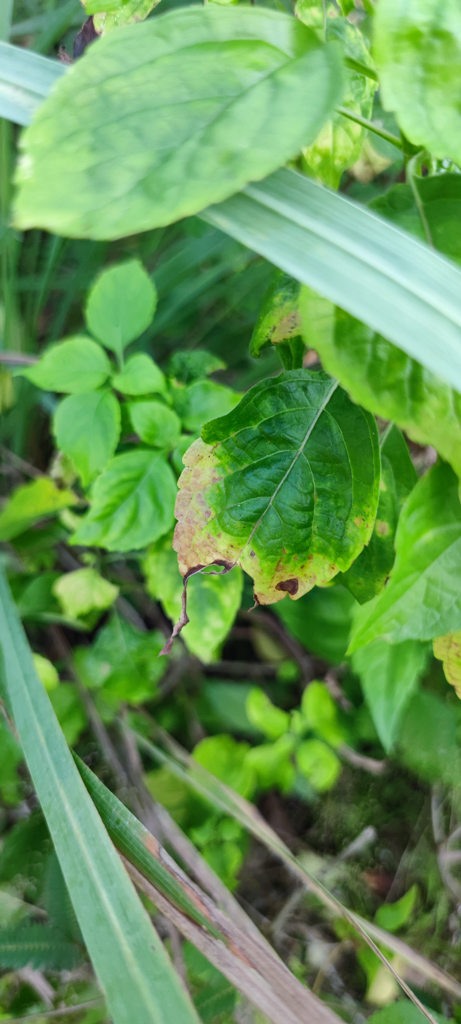Pepper yellow leaf: (167, 435, 250, 574)
